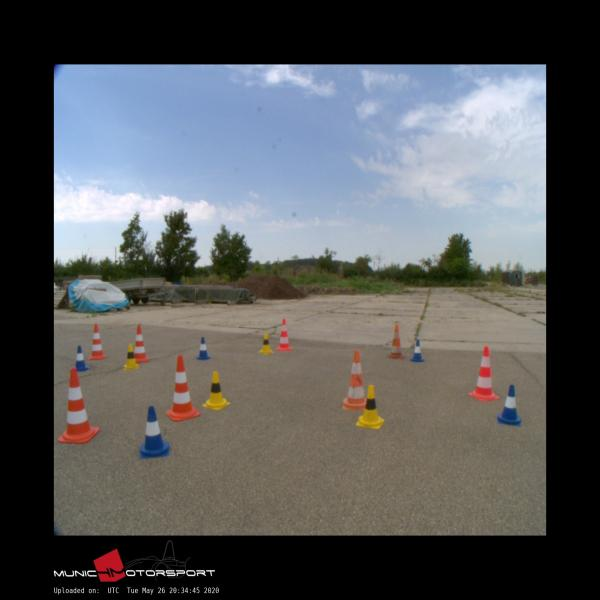blue_cone: (140, 406, 168, 457), (497, 385, 521, 424), (73, 346, 90, 370), (196, 337, 210, 359), (410, 340, 424, 361)
large_orange_cone: (58, 367, 99, 442), (166, 354, 200, 421), (468, 345, 498, 400), (343, 350, 369, 409), (88, 324, 105, 360), (132, 325, 148, 362), (388, 324, 404, 358), (276, 318, 292, 350)
yellow_cone: (355, 385, 383, 428), (202, 371, 229, 408), (123, 344, 139, 368), (258, 334, 274, 354)
